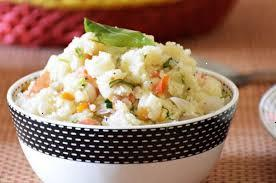upma: (36, 21, 215, 120)
